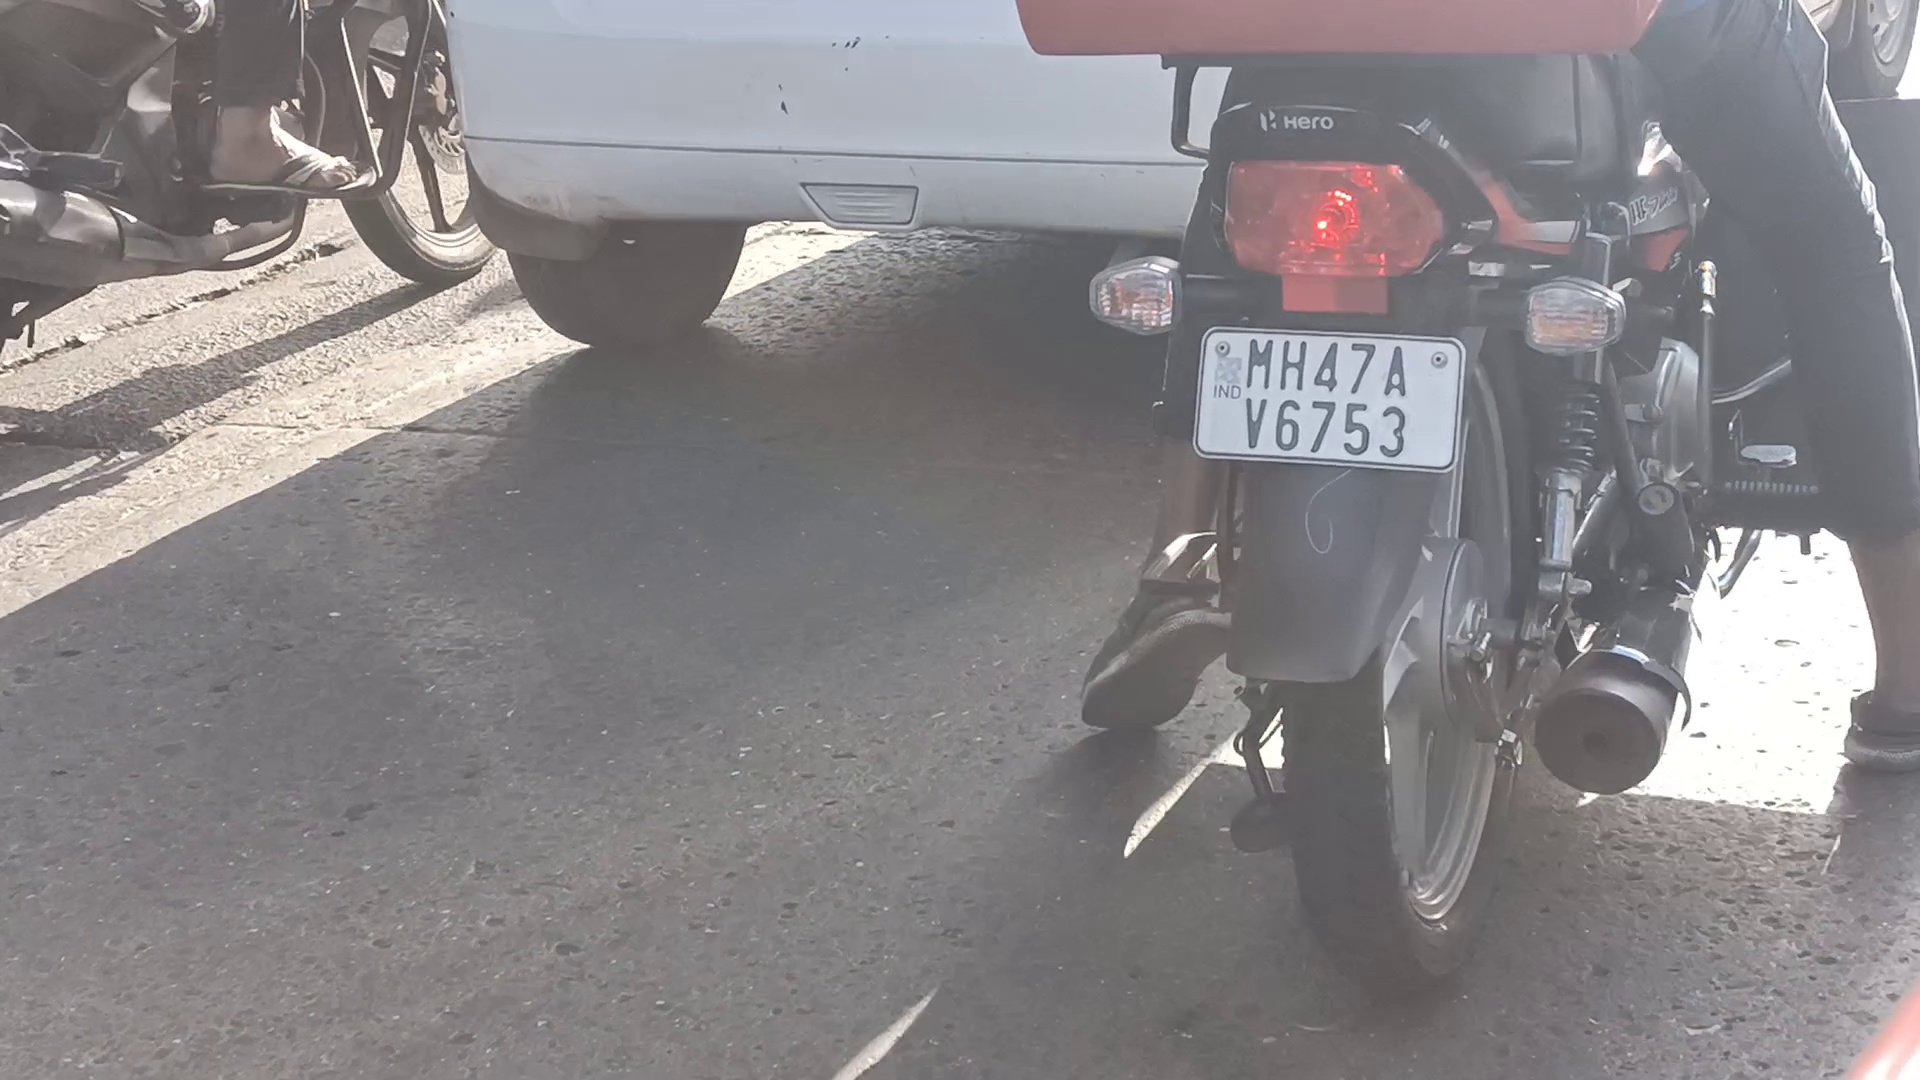MH47AV6753: (1198, 326, 1461, 468)
